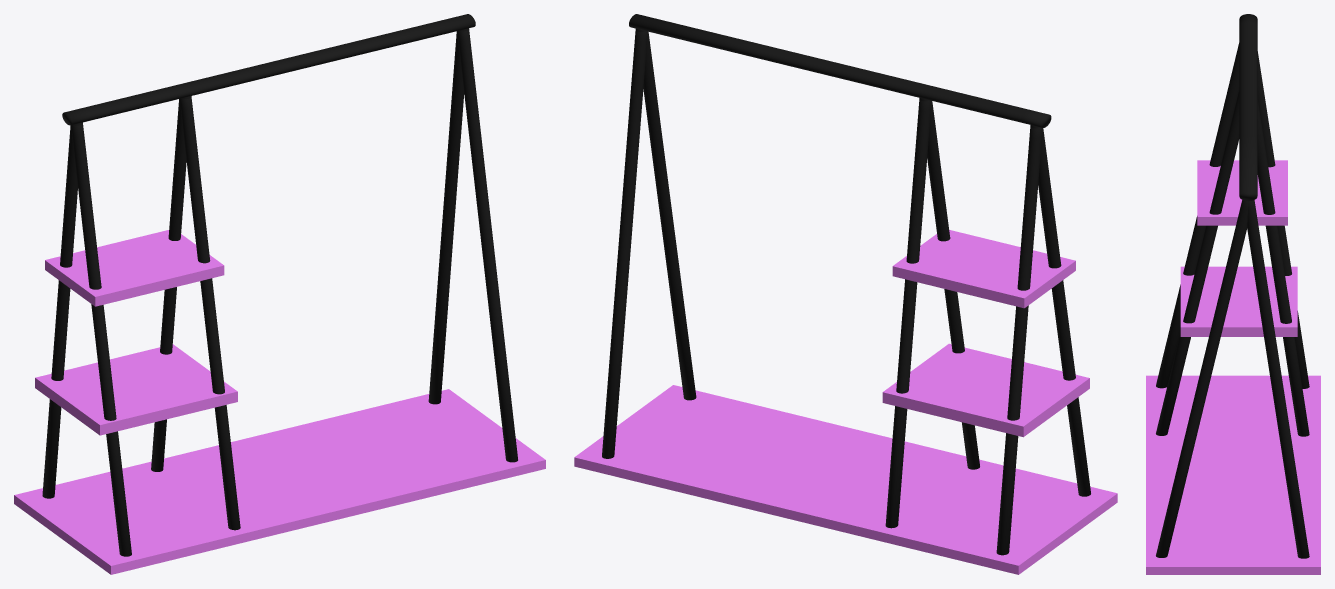
File: shelf_3_empty.fbx
3 renders of one model, left to right at view 1: azimuth 30°, elevation 25°; view 2: azimuth 150°, elevation 25°; view 3: azimuth 270°, elevation 25°, orthographic. The views are drawn at different scales.
Visible parts, largest first — view 1: Cube.026, Cube.029, Cube.028, Cylinder.003, Cylinder.009, Cylinder.005, Cylinder.011, Cylinder.008, Cylinder.004, Cylinder.010; view 2: Cube.026, Cube.029, Cube.028, Cylinder.003, Cylinder.008, Cylinder.004, Cylinder.010, Cylinder.009, Cylinder.005, Cylinder.011; view 3: Cube.026, Cube.029, Cylinder.009, Cylinder.008, Cylinder.011, Cube.028, Cylinder.003, Cylinder.010, Cylinder.005, Cylinder.004.
Part boxes in pixels (x1,y1,x2,y2): Cube.026: (14,389,545,574); Cube.029: (35,344,237,435); Cube.028: (45,230,224,306); Cylinder.003: (62,14,475,125); Cylinder.009: (458,29,517,462); Cylinder.005: (71,123,131,556); Cylinder.011: (180,97,240,530); Cylinder.008: (428,28,468,404); Cylinder.004: (42,122,82,498); Cylinder.010: (151,96,191,471); Cube.026: (574,385,1117,574); Cube.029: (882,343,1089,437); Cube.028: (892,230,1075,308); Cylinder.003: (629,14,1051,127); Cylinder.008: (602,30,647,458); Cylinder.004: (996,126,1041,555); Cylinder.010: (885,99,930,528); Cylinder.009: (635,28,696,400); Cylinder.005: (1030,125,1090,496); Cylinder.011: (919,98,979,469); Cube.026: (1146,375,1320,574); Cube.029: (1180,266,1297,336); Cylinder.009: (1156,200,1248,557); Cylinder.008: (1247,200,1309,558); Cylinder.011: (1156,90,1239,435); Cube.028: (1197,160,1287,225); Cylinder.003: (1239,14,1257,201); Cylinder.010: (1257,99,1309,436); Cylinder.005: (1156,43,1239,388); Cylinder.004: (1257,51,1309,388).
Size of the model in its own units: 4.48 by 4.12 by 1.73.
